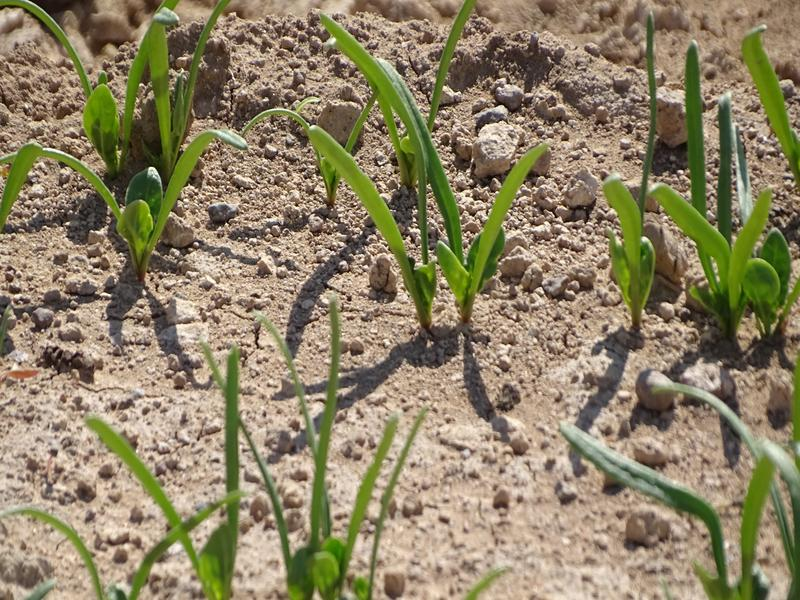Espinaca: (96, 301, 421, 598), (310, 7, 547, 299), (604, 13, 800, 307), (40, 3, 242, 274), (552, 377, 800, 593)
